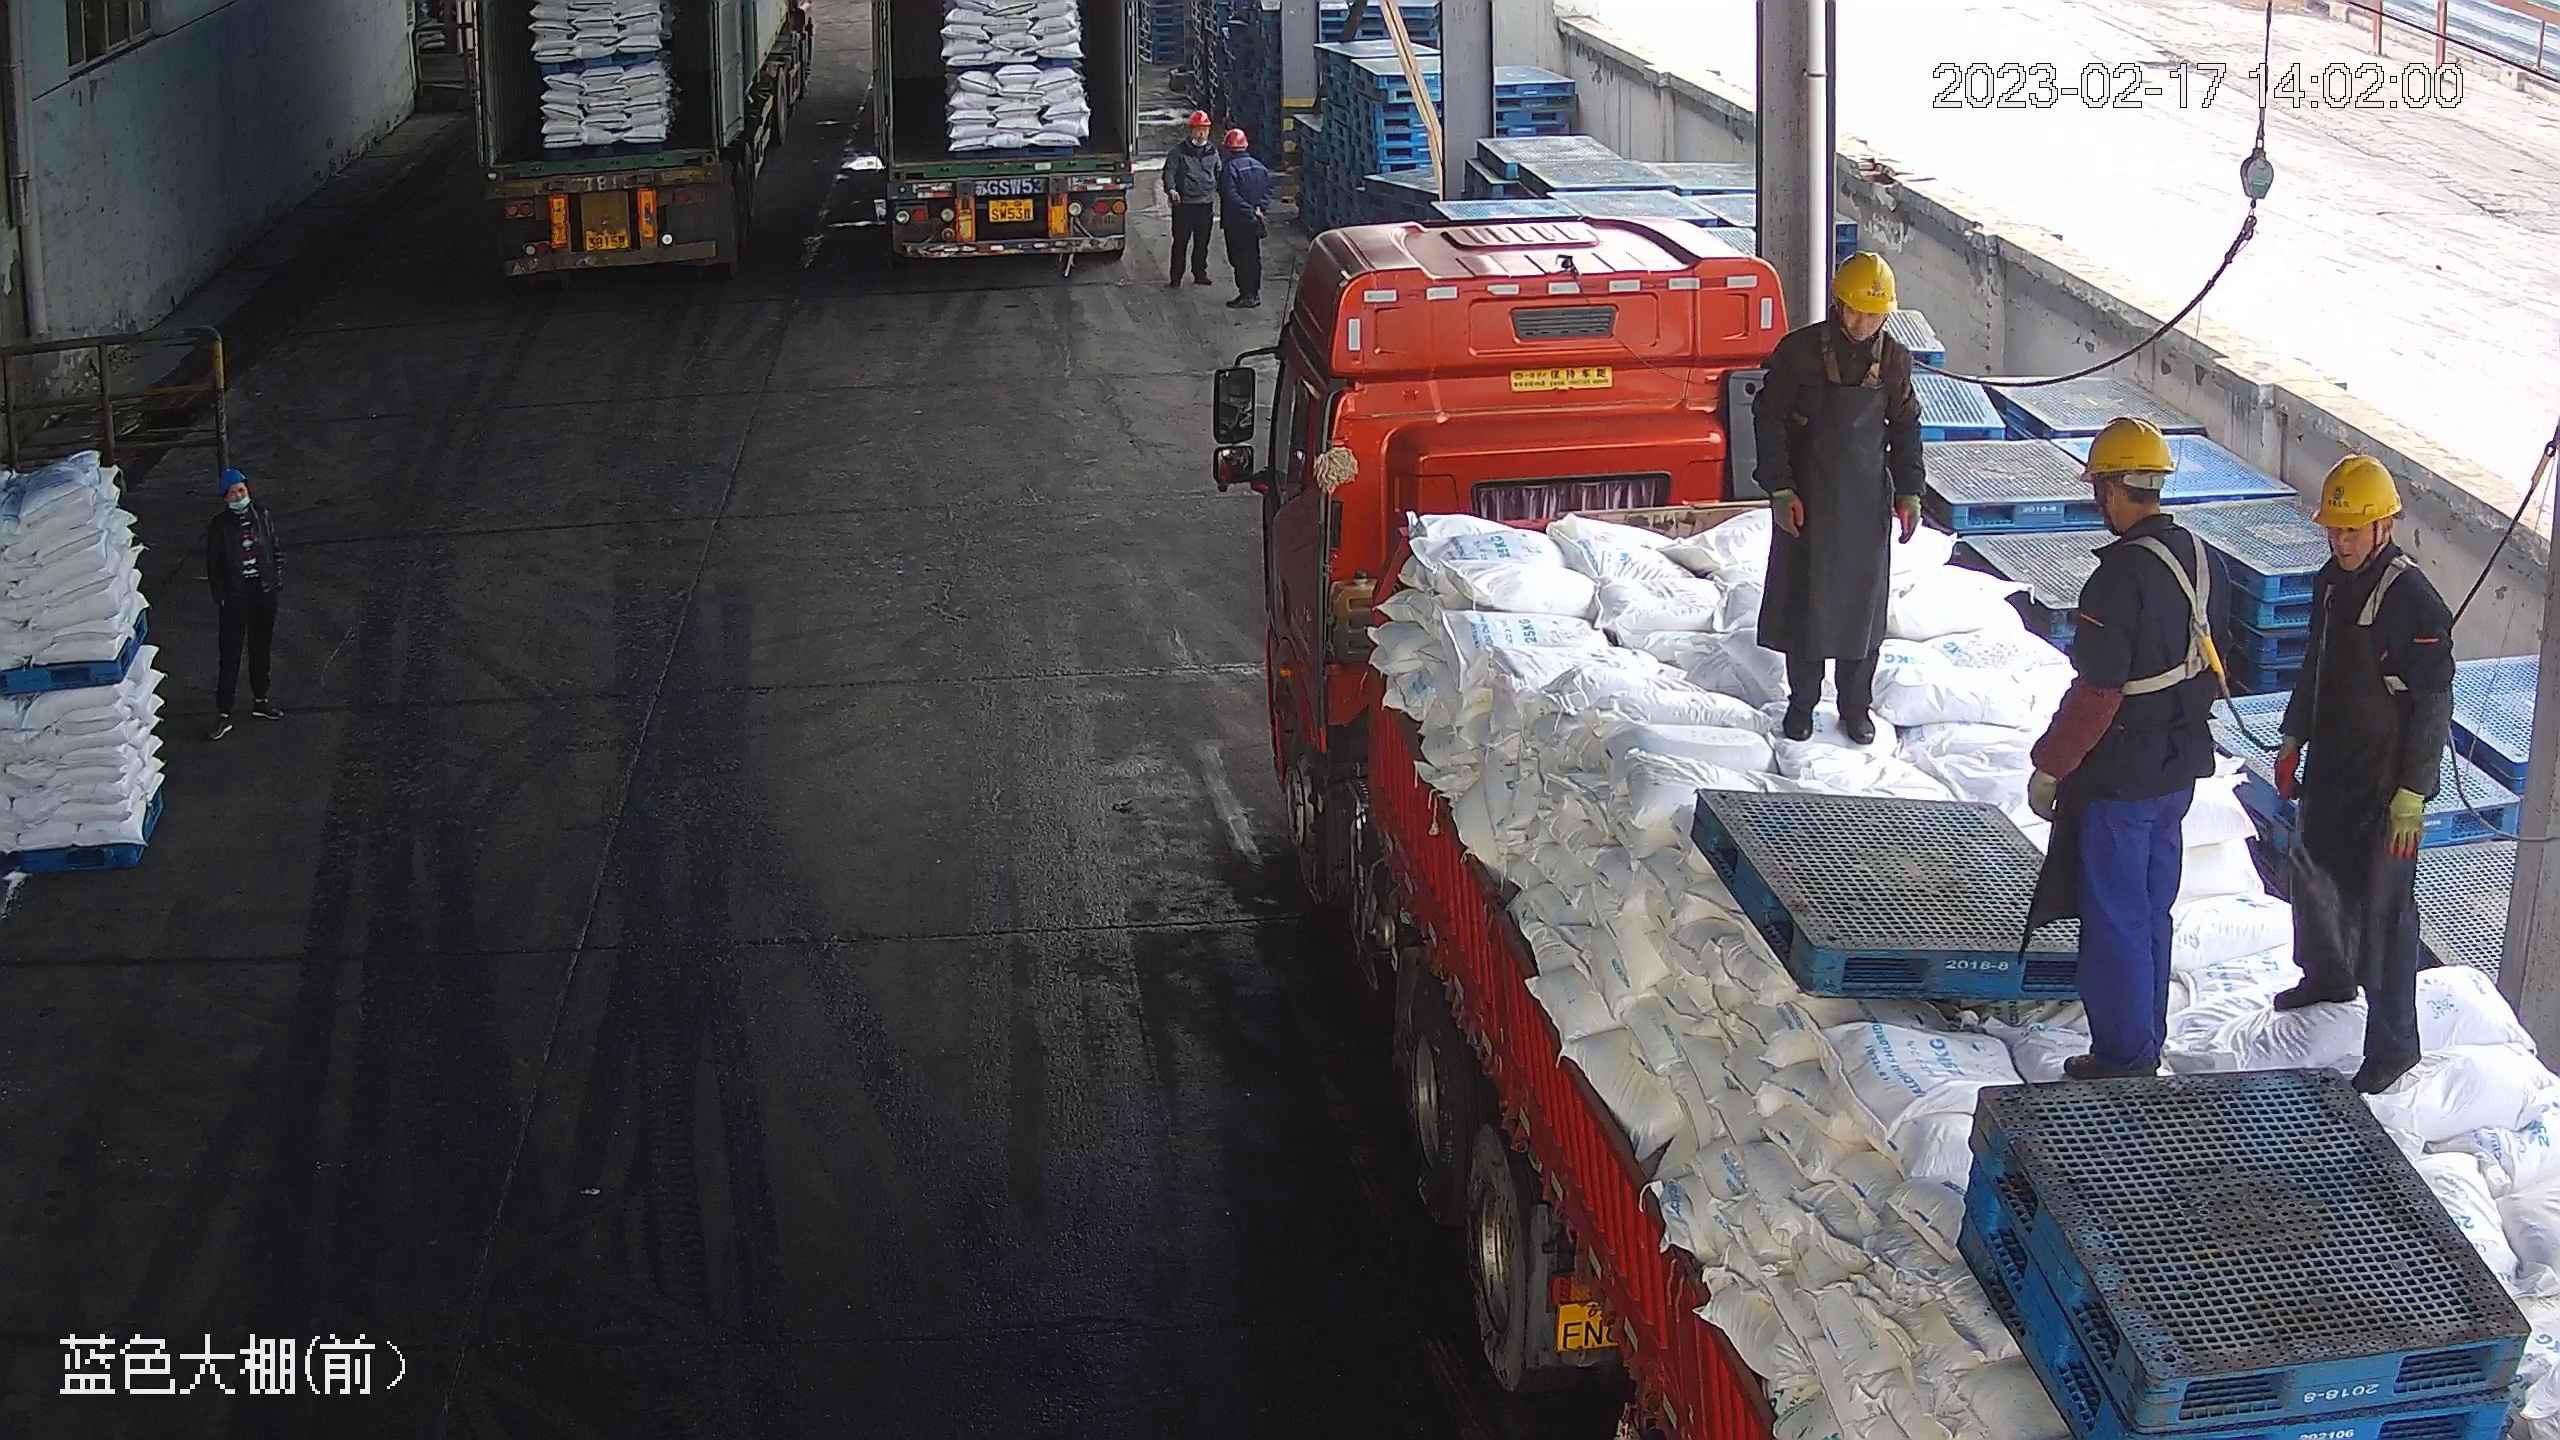belt: (2106, 524, 2231, 698), (2324, 548, 2422, 625), (1817, 316, 1896, 388)
head: (2066, 414, 2245, 612), (2273, 451, 2450, 649), (1763, 247, 1914, 391), (209, 473, 269, 555), (1216, 128, 1263, 181), (1169, 109, 1214, 160)
helmet: (2310, 451, 2404, 527), (2075, 413, 2175, 479), (1829, 245, 1899, 317), (221, 472, 251, 498), (1224, 127, 1249, 148), (1183, 108, 1208, 127)
people: (2023, 416, 2239, 1087), (2269, 448, 2455, 1098), (1753, 244, 1927, 741), (209, 469, 283, 729), (1154, 110, 1218, 287), (1215, 124, 1270, 311)
truck: (1209, 214, 2559, 1439), (474, 1, 820, 283), (869, 1, 1142, 261)
